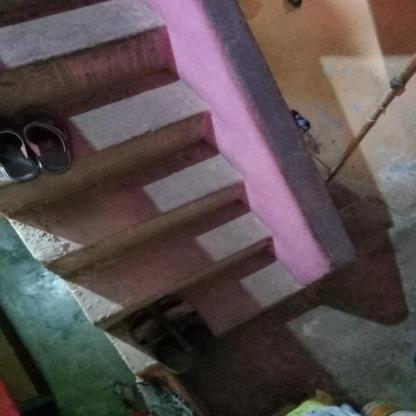stair: (0, 0, 320, 360)
